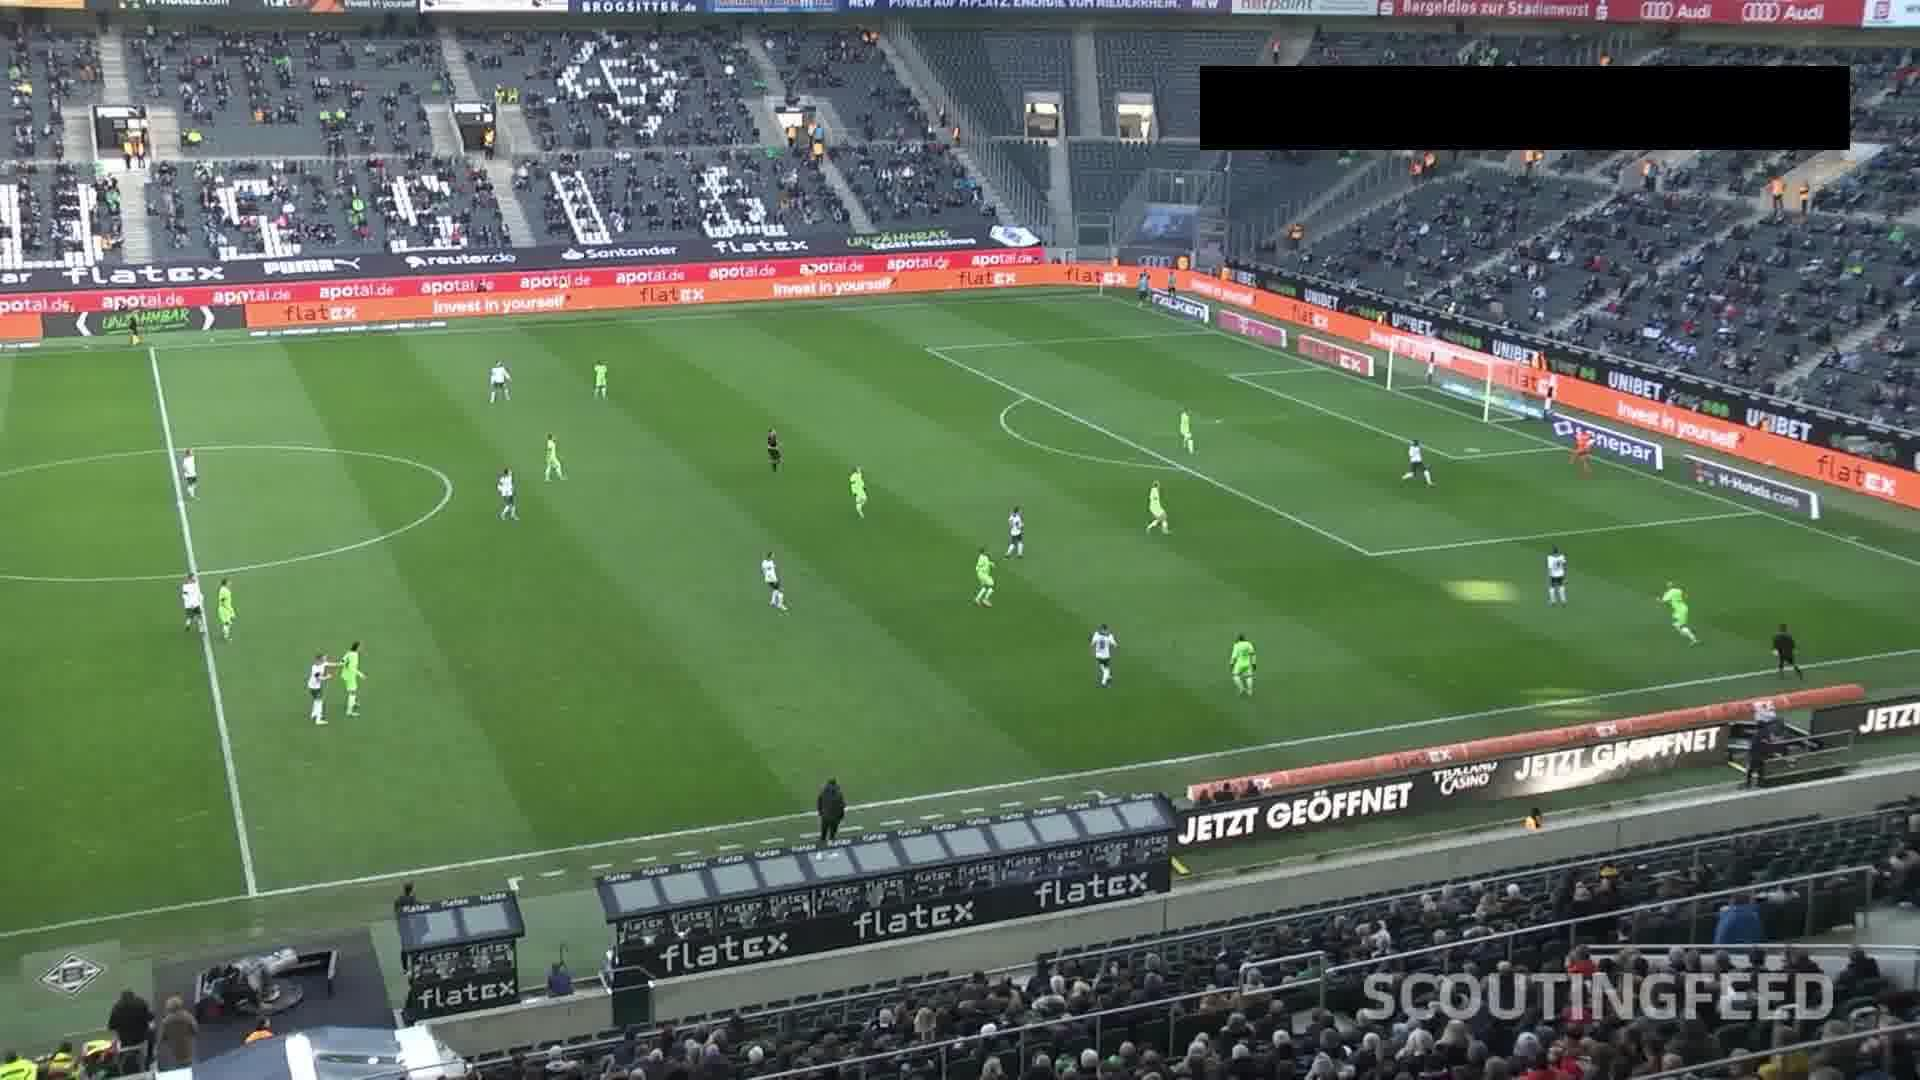football: (1464, 448, 1482, 455)
